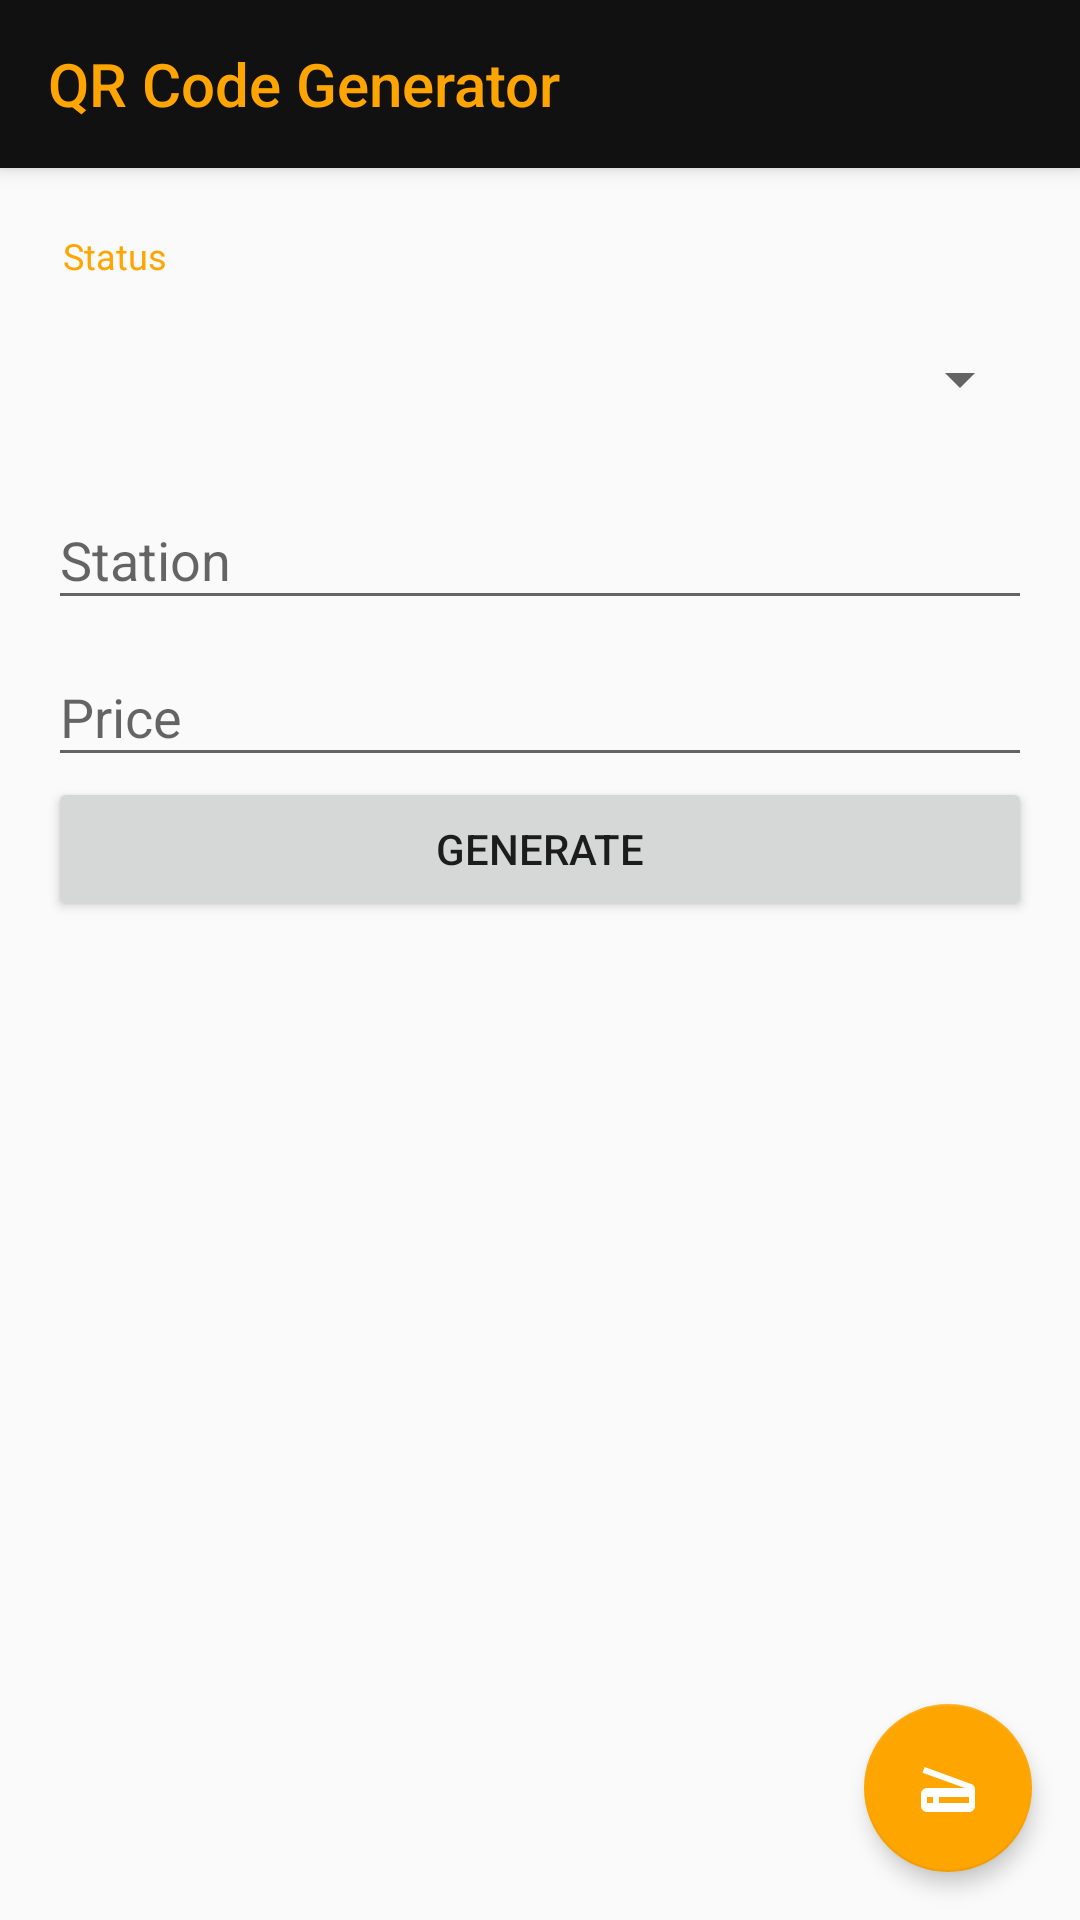

Point at icon controls on the screen. Image size 1080*1920, points as point (x, y).
scanner: point (948, 1788)
